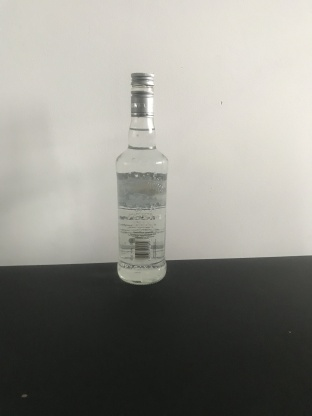nakretka: (129, 71, 155, 119)
